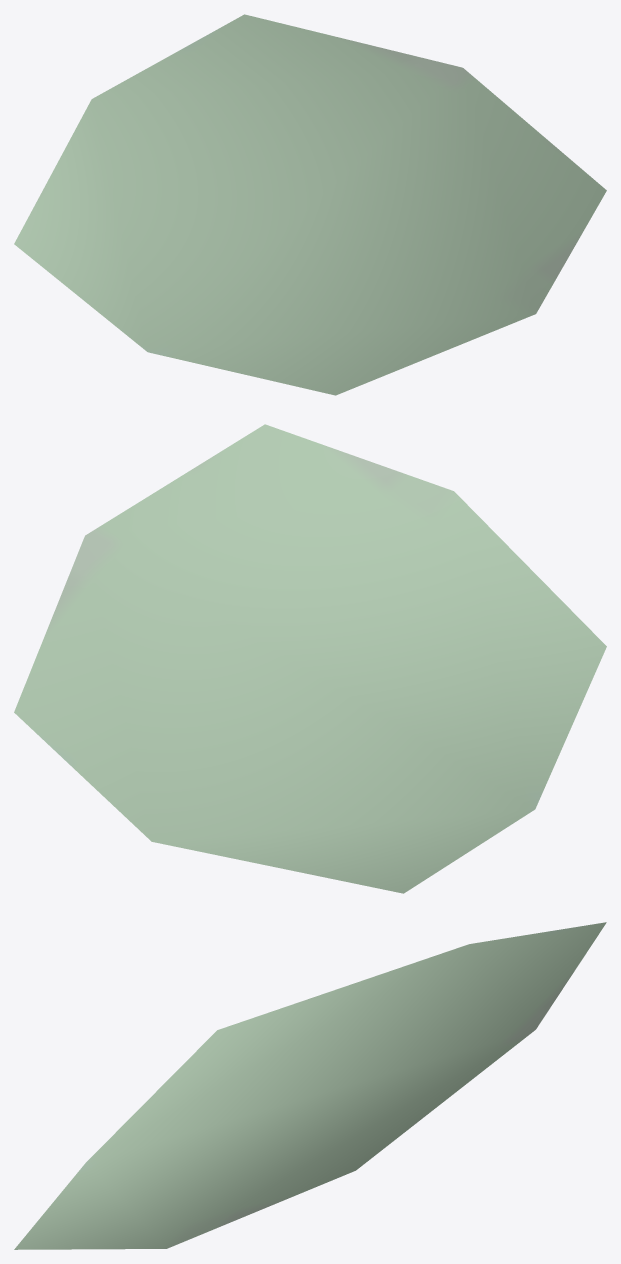
Rendered from TROLLHOLE02_HOLECAP88.fbx.
3 views of the same model, one above another, from view 1: azimuth 30°, elevation 25°; view 2: azimuth 150°, elevation 25°; view 3: azimuth 330°, elevation 25° (orthographic). The views are drawn at different scales.
Parts seen in each view (by area): view 1: TROLLHOLE02_HOLECAP88; view 2: TROLLHOLE02_HOLECAP88; view 3: TROLLHOLE02_HOLECAP88.
Boxes of the visible parts, x1,y1,x2,y2 form: TROLLHOLE02_HOLECAP88: (14, 14, 606, 395); TROLLHOLE02_HOLECAP88: (14, 424, 606, 893); TROLLHOLE02_HOLECAP88: (14, 922, 606, 1249).
Bounding box in the file's own units: 8112 × 3737 × 13690.
Materials: 1 (1 with a texture image).
